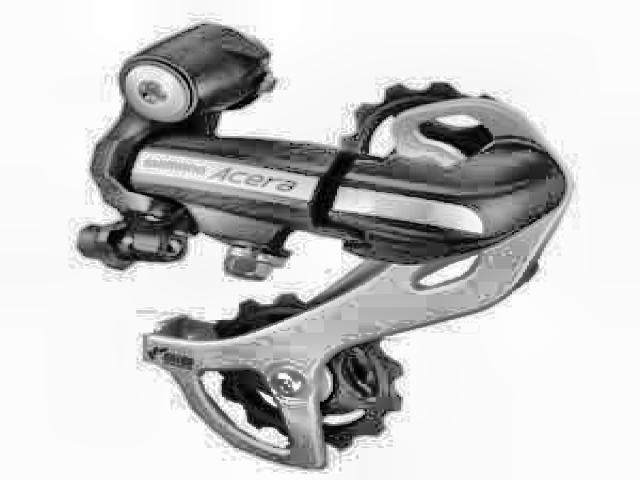rear_derailleur: (77, 19, 578, 480)
